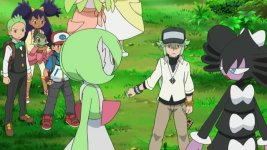gardevoir: (57, 29, 123, 150)
